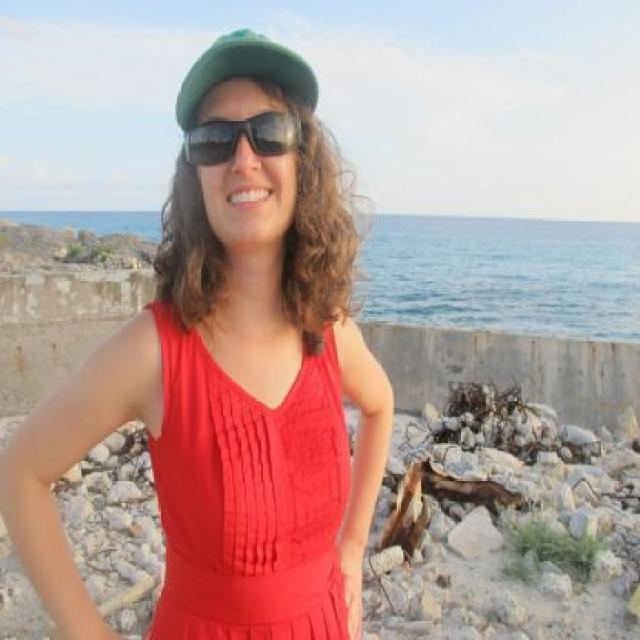face_nomask: (196, 116, 293, 219)
glasses: (172, 99, 288, 166)
head_nohelmet: (175, 30, 331, 119)
person: (77, 44, 394, 640)
